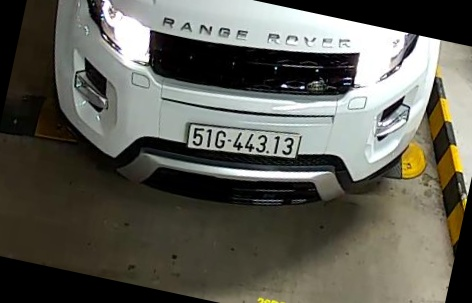plate: (180, 110, 303, 168)
